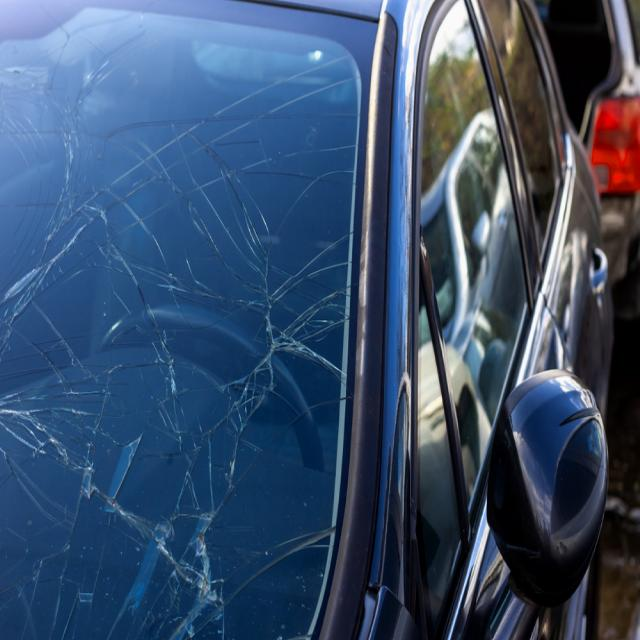Fissure: (0, 24, 360, 640)
